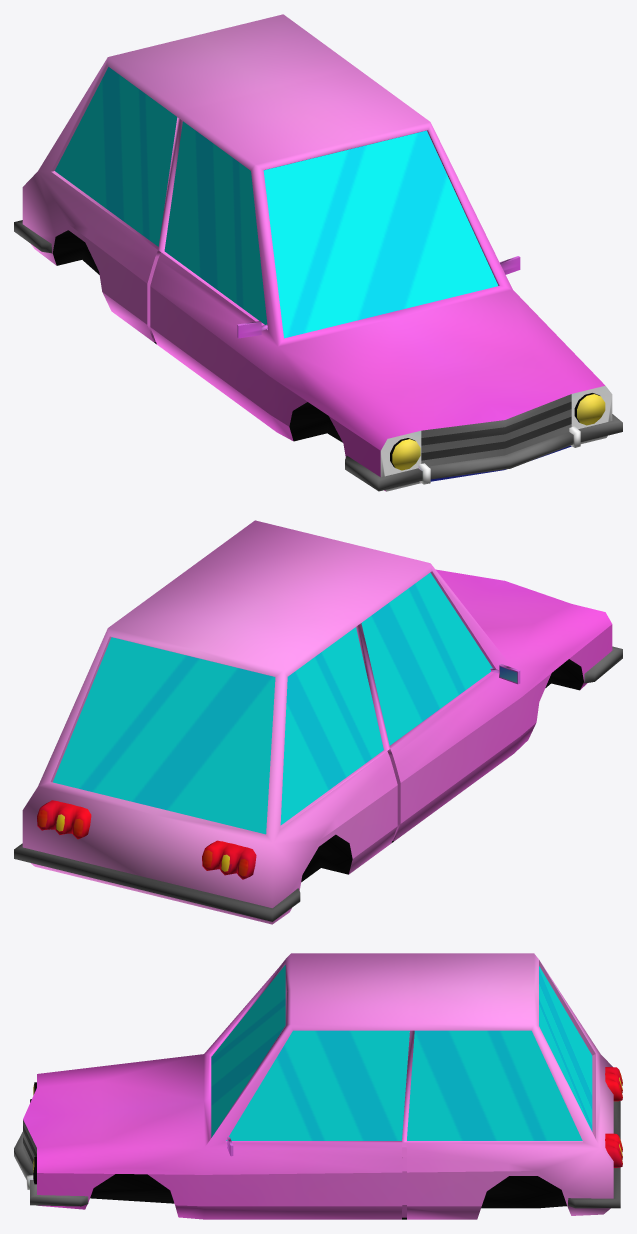
The model's file is Car_6.fbx.
3 views of the same model, one above another, from view 1: azimuth 30°, elevation 25°; view 2: azimuth 150°, elevation 25°; view 3: azimuth 270°, elevation 25° (orthographic). The views are drawn at different scales.
Parts seen in each view (by area): view 1: Car_6; view 2: Car_6; view 3: Car_6.
Part boxes in pixels (x1=…): Car_6: x1=14, y1=14, x2=622, y2=491; Car_6: x1=14, y1=520, x2=622, y2=924; Car_6: x1=14, y1=953, x2=622, y2=1219.
Size of the model in its own units: 249 by 187 by 563.
Materials: 2 (2 with a texture image).
